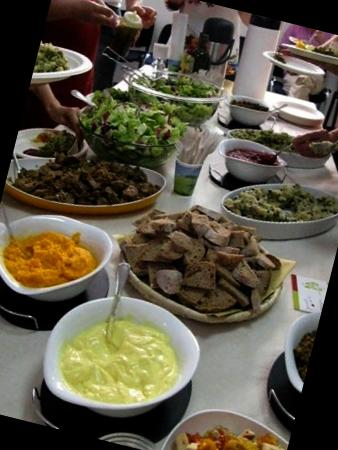reference_object: (284, 269, 326, 316)
